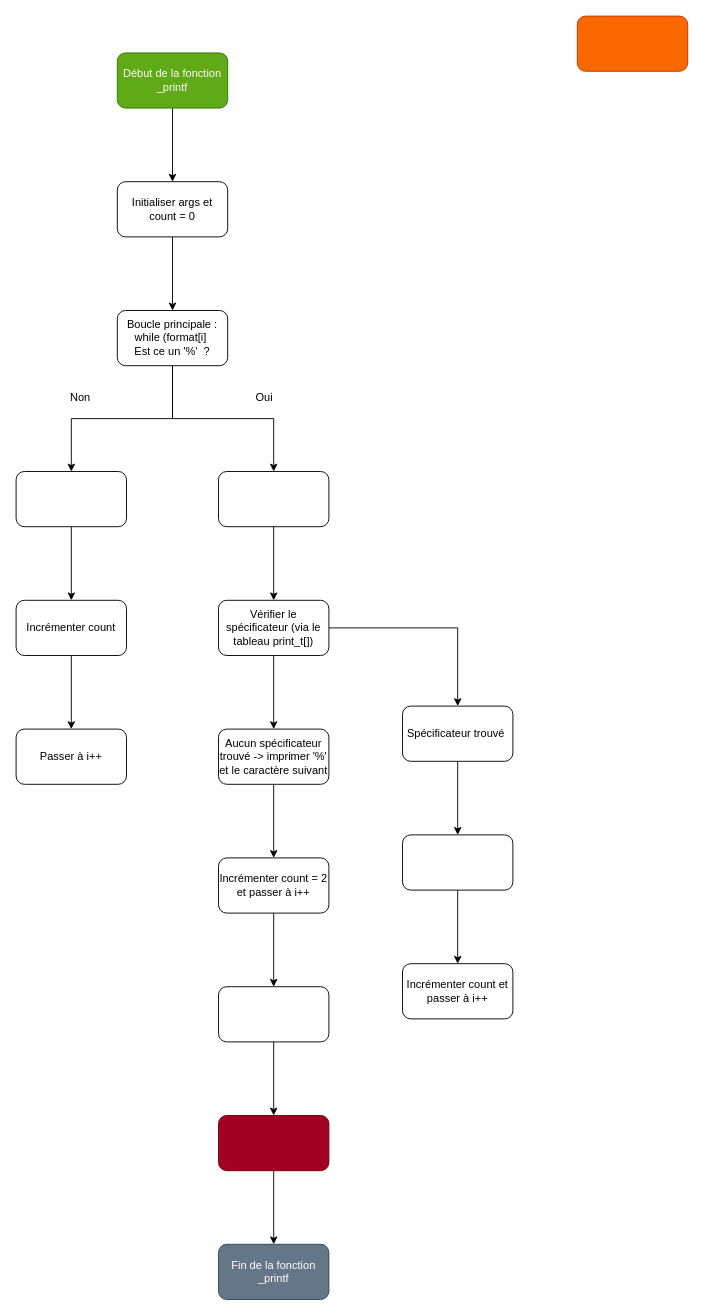
Some shapes in this 704 by 1316 pixel diagram are drawn without their labels. The shapes that lost their labels are listed below. From the top down, each one's box as (x1, y1, x2, y2) in pixels, then its label:
(576, 15, 688, 71): Dossier _printf
(15, 471, 126, 527): Imprimer le caractère
(218, 471, 329, 527): Vérifier s'il reste un caractère après le '%'
(402, 834, 513, 890): Appeler la fonction associée
(218, 986, 329, 1042): Fin de la boucle while
(218, 1115, 329, 1171): Retourner count
